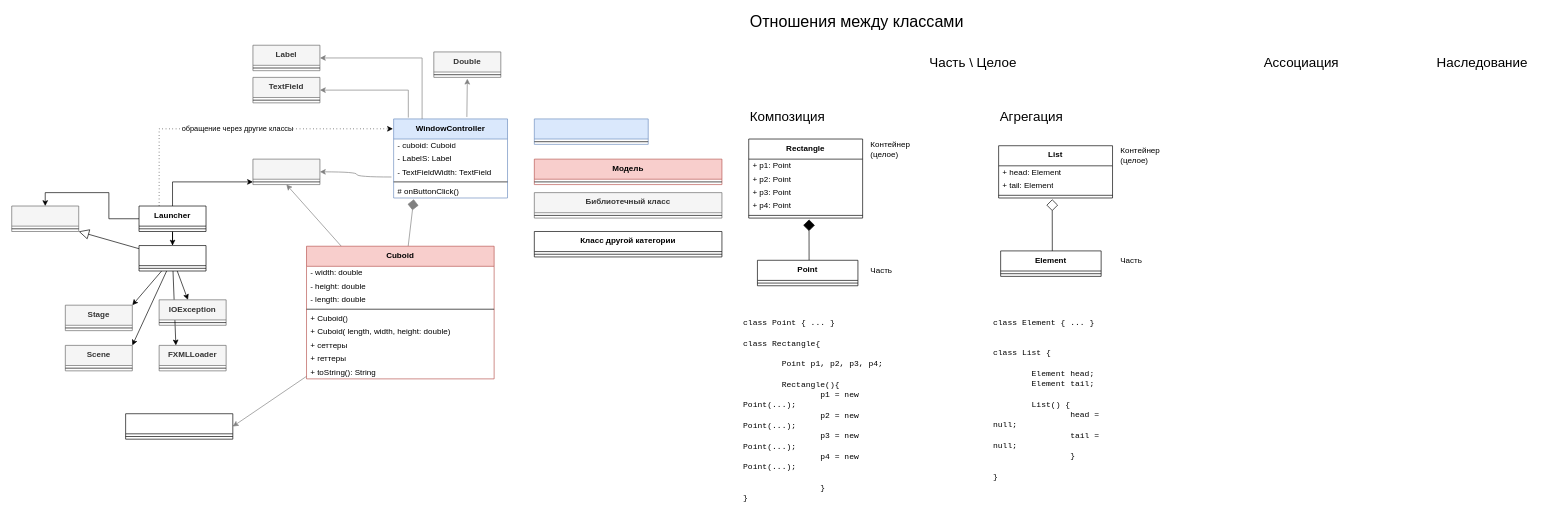
Some shapes in this 1544 by 515 pixel diagram are drawn without their labels. Here are the shapes that lost their labels. From the top down, the centre of each, then its label:
At (x=591, y=131): "Контроллер".
At (x=286, y=171): "String".
At (x=45, y=218): "Application".
At (x=172, y=258): "MainApplication".
At (x=179, y=426): "IllegalArgumentException".
